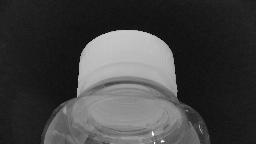Broken Cap: (57, 22, 195, 120)
